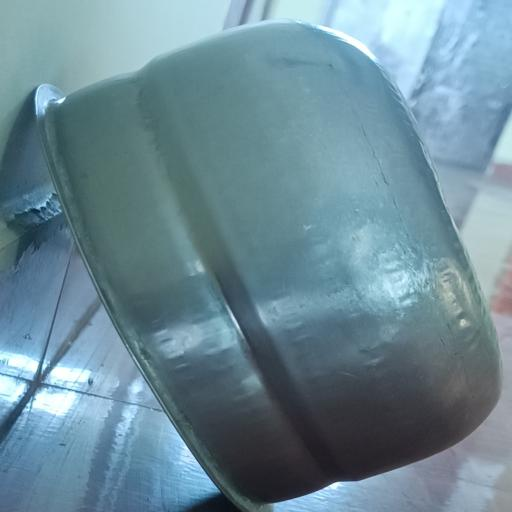vessel: (43, 21, 501, 510)
